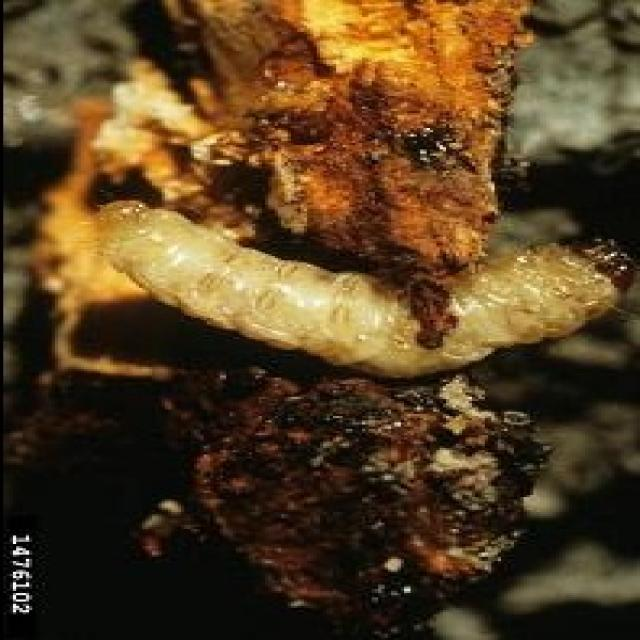peach borer: (87, 200, 620, 369)
